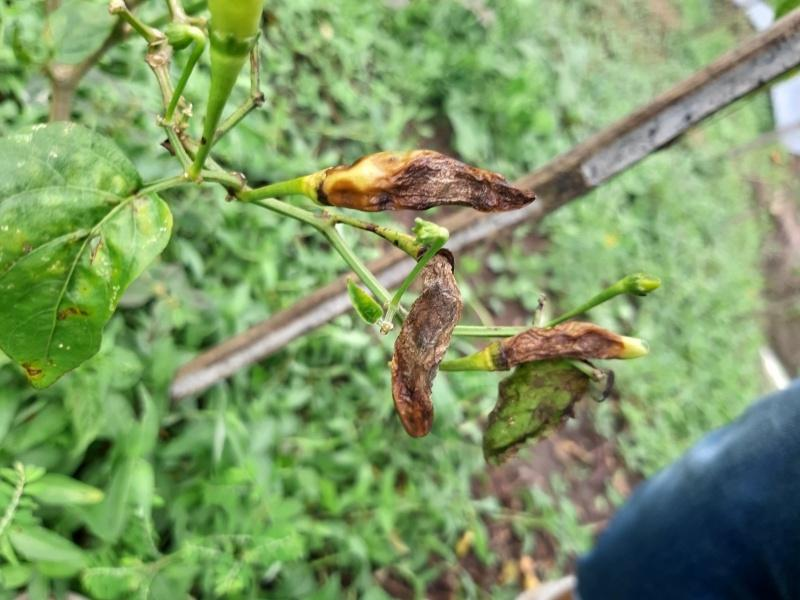antraknosa: (392, 251, 460, 437), (327, 150, 536, 209), (500, 324, 650, 365)
